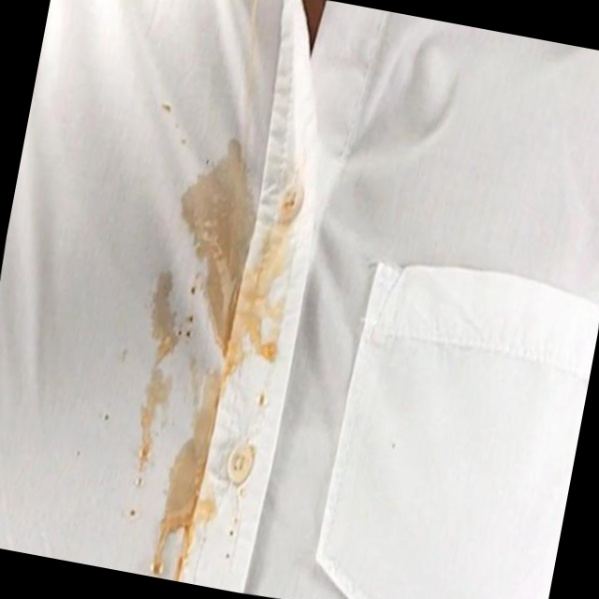coffee: (168, 141, 298, 346), (159, 376, 235, 568), (124, 365, 180, 480), (141, 269, 192, 362)
